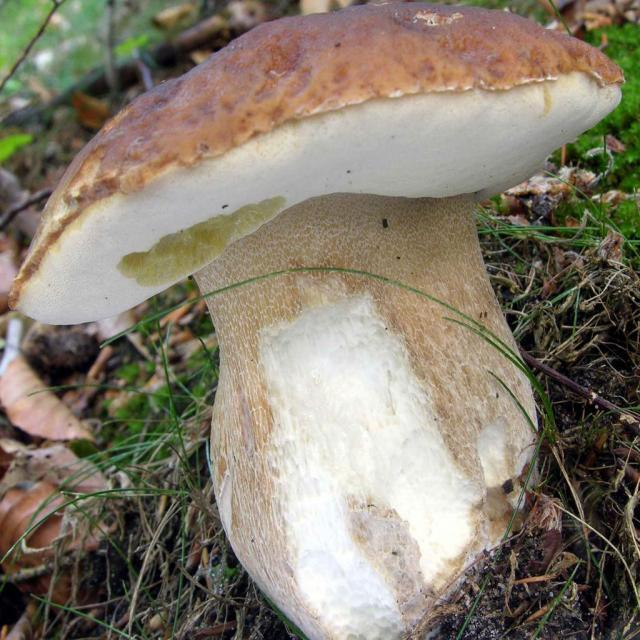Boletus: (8, 3, 625, 634)
